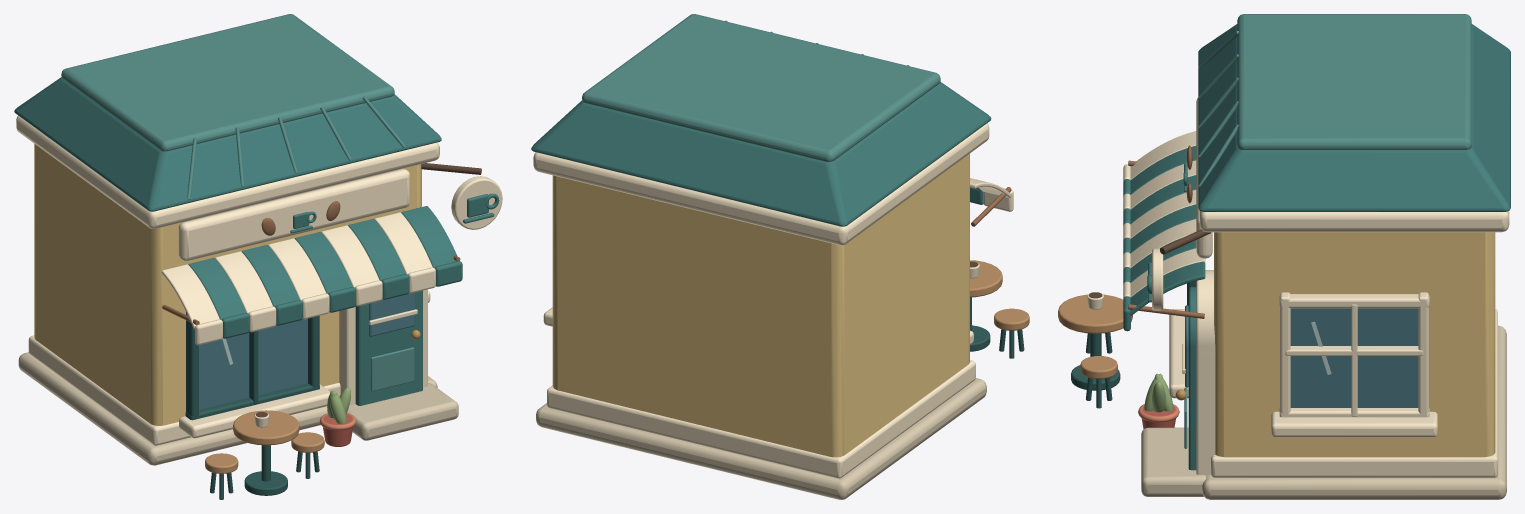
The model's file is cafe_level_2_before.glb.
3 renders of one model, left to right at view 1: azimuth 30°, elevation 25°; view 2: azimuth 150°, elevation 25°; view 3: azimuth 270°, elevation 25°, orthographic. The views are drawn at different scales.
Visible parts, largest first — view 1: Wall • butter plaster.001, Roof • rounded crown.001, Roof • soft hipped shell.001, Fascia • plain cream band, Roof • cream cornice.001, Window • blue glazing.002, Foundation • stone plinth.001, Door • teal panel.001, Door • step.001, Wall • cream skirting.001, Window • deep sill.002, Door • cream arch.001 (+32 smaller); view 2: Wall • butter plaster.001, Roof • rounded crown.001, Roof • soft hipped shell.001, Foundation • stone plinth.001, Wall • cream skirting.001, Roof • cream cornice.001, Terrace • round tabletop, Terrace • stool seat; view 3: Wall • butter plaster.001, Roof • rounded crown.001, Roof • soft hipped shell.001, Window • blue glazing.003, Foundation • stone plinth.001, Wall • cream skirting.001, Roof • cream cornice.001, Door • cream arch.001, Door • step.001, Window • deep sill.003, Terrace • round tabletop, Window • lintel.007 (+21 smaller).
Part boxes in pixels (<box>): Wall • butter plaster.001: <box>34,144,421,425</box>; Roof • rounded crown.001: <box>61,14,394,151</box>; Roof • soft hipped shell.001: <box>14,77,441,211</box>; Fascia • plain cream band: <box>178,169,410,261</box>; Roof • cream cornice.001: <box>16,115,439,228</box>; Window • blue glazing.002: <box>199,318,307,409</box>; Foundation • stone plinth.001: <box>18,352,437,465</box>; Door • teal panel.001: <box>355,290,422,405</box>; Door • step.001: <box>347,383,458,440</box>; Wall • cream skirting.001: <box>28,335,340,445</box>; Window • deep sill.002: <box>179,384,330,438</box>; Door • cream arch.001: <box>339,289,427,405</box>; Wall • butter plaster.001: <box>552,153,969,457</box>; Roof • rounded crown.001: <box>582,14,940,161</box>; Roof • soft hipped shell.001: <box>531,82,991,226</box>; Foundation • stone plinth.001: <box>536,378,986,499</box>; Wall • cream skirting.001: <box>547,360,975,478</box>; Roof • cream cornice.001: <box>533,123,989,245</box>; Terrace • round tabletop: <box>970,260,1002,297</box>; Terrace • stool seat: <box>994,308,1029,330</box>; Wall • butter plaster.001: <box>1214,232,1495,457</box>; Roof • rounded crown.001: <box>1237,14,1471,149</box>; Roof • soft hipped shell.001: <box>1198,24,1510,211</box>; Window • blue glazing.003: <box>1290,308,1418,407</box>; Foundation • stone plinth.001: <box>1202,325,1506,499</box>; Wall • cream skirting.001: <box>1211,309,1497,477</box>; Roof • cream cornice.001: <box>1200,211,1509,232</box>; Door • cream arch.001: <box>1196,270,1215,475</box>; Door • step.001: <box>1141,427,1206,496</box>; Window • deep sill.003: <box>1271,411,1437,437</box>; Terrace • round tabletop: <box>1058,294,1132,333</box>; Window • lintel.007: <box>1279,294,1429,308</box>.
Bounding box in the file's own units: 3.7 × 3.27 × 3.86.
